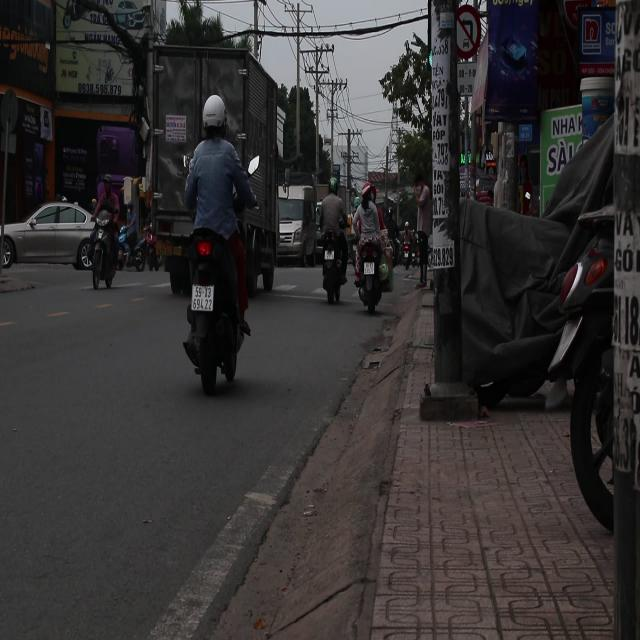car: (2, 200, 98, 268)
motorbike: (184, 228, 244, 393), (354, 237, 394, 314)
truck: (277, 179, 320, 269)
